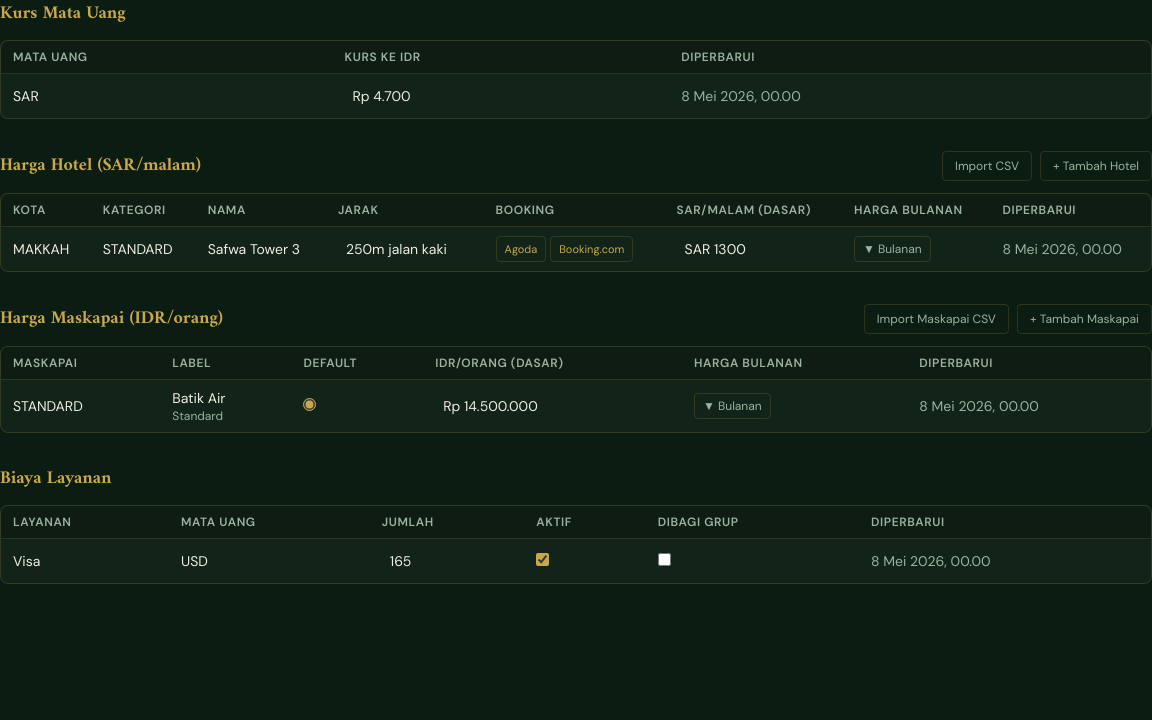
PricingTable airline CSV import › shows the airline import panel and template link
Click the button "Import Maskapai CSV" at {"x": 936, "y": 319}, box [864,304,1009,334]
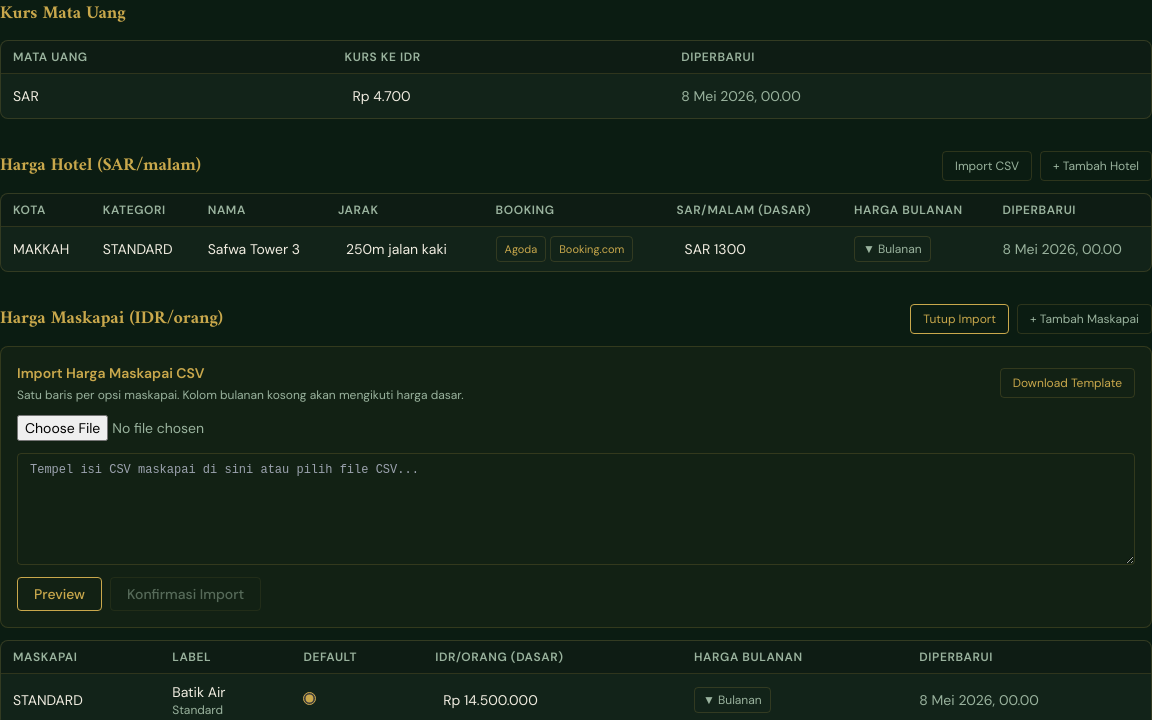
Check: the button "+ Tambah Maskapai" is shown, box [1017,304,1151,334]
Check: the text "Import Harga Maskapai CSV" is shown, box [17,364,204,382]
